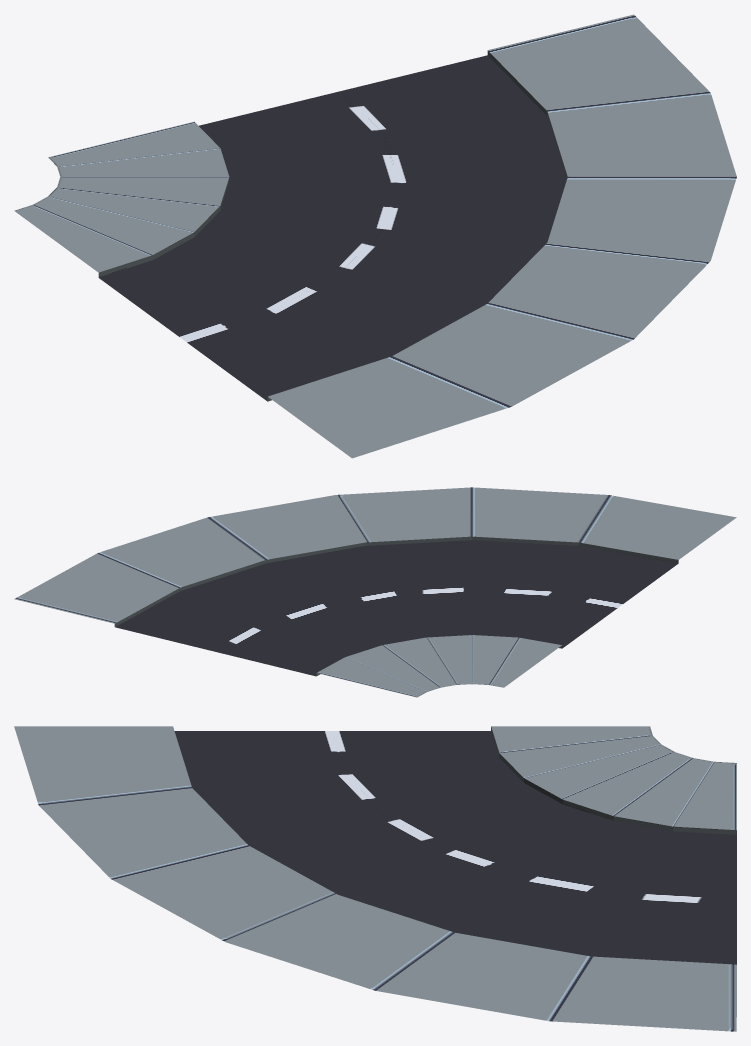
The model's file is Road_Bend.fbx.
The picture shows the model from 3 angles, top to bottom: view 1: azimuth 30°, elevation 25°; view 2: azimuth 150°, elevation 25°; view 3: azimuth 270°, elevation 25°; orthographic projection. The views are drawn at different scales.
Visible parts, largest first — view 1: Road_Bend; view 2: Road_Bend; view 3: Road_Bend.
Part boxes in pixels (x1,y1,x2,y2): Road_Bend: [14, 14, 736, 458]; Road_Bend: [14, 487, 736, 697]; Road_Bend: [14, 726, 736, 1031].
Bounding box in the file's own units: 13.64 × 0.1 × 13.64.
